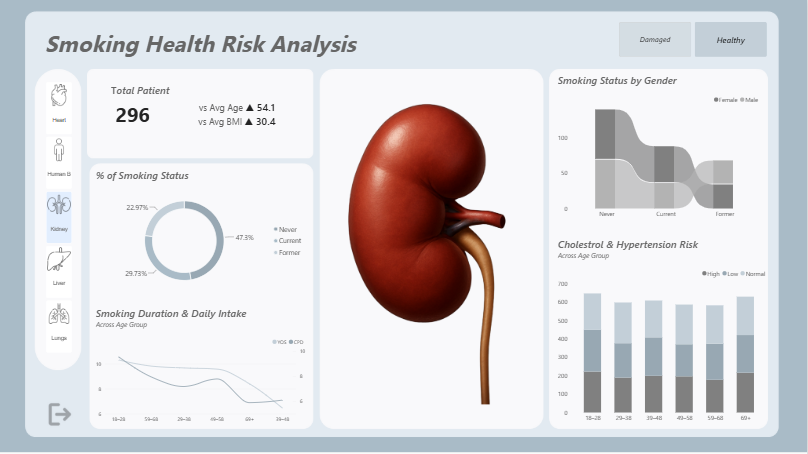

The page's visual inventory and layout, read from the dashboard file:
{"tool":"powerbi","page":{"name":"Smoking Health Risk Analysis","canvas":[1920,1080],"ordinal":0},"visuals":[{"type":"cardVisual","fields":{"Data":["CountNonNull(health_dataset.Patient_ID)"]},"box":[228.6,178.6,497.6,185.7],"z":0},{"type":"textbox","box":[264.3,178.6,283.3,114.3],"z":1000},{"type":"advancedSlicerVisual","fields":{"Values":["condition.Organ_Condition"]},"box":[1473.8,52.4,352.4,83.3],"z":2000},{"type":"ChicletSlicer1448559807354","fields":{"Category":["Organs.Organ"],"Image":["Organs.Icon_URL"]},"box":[90.5,178.6,100,690.5],"z":3000},{"type":"image","box":[764.3,178.6,528.6,831],"z":4000},{"type":"donutChart","title":"% of Smoking Status","fields":{"Category":["health_dataset.Smoking_Status"],"Y":["CountNonNull(health_dataset.Smoking_Status)"]},"box":[211.9,385.7,531,328.6],"z":5000},{"type":"lineChart","title":"Smoking Duration & Daily Intake","fields":{"Category":["health_dataset.Age Group"],"Y":["Avg(health_dataset.Years_of_Smoking)"],"Y2":["Avg(health_dataset.Cigarettes_Per_Day)"]},"box":[211.9,714.3,531,311.9],"z":6000},{"type":"ribbonChart","title":"Smoking Status by Gender","fields":{"Category":["health_dataset.Smoking_Status"],"Series":["health_dataset.Gender"],"Y":["CountNonNull(health_dataset.Patient_ID)"]},"box":[1311.9,159.5,514.3,381],"z":6001},{"type":"columnChart","title":"Cholestrol & Hypertension Risk","fields":{"Category":["health_dataset.Age Group"],"Series":["health_dataset.BP_Risk"],"Y":["Avg(health_dataset.Cholesterol_Level)"]},"box":[1311.9,550,531,476.2],"z":6002},{"type":"textbox","box":[107.1,66.7,819,92.9],"z":6003}]}

Visuals, with their boxes in screenshot pixels (x1, y1, x2, y2), scaled from the page's 1920x1080 canvas onto the 808x454 screenshot:
cardVisual - CountNonNull(health_dataset.Patient_ID): pyautogui.locateOnScreen(96, 75, 306, 153)
textbox: pyautogui.locateOnScreen(111, 75, 230, 123)
advancedSlicerVisual - condition.Organ_Condition: pyautogui.locateOnScreen(620, 22, 769, 57)
ChicletSlicer1448559807354 - Organs.Organ x Organs.Icon_URL: pyautogui.locateOnScreen(38, 75, 80, 365)
image: pyautogui.locateOnScreen(322, 75, 544, 424)
"% of Smoking Status" donutChart: pyautogui.locateOnScreen(89, 162, 313, 300)
"Smoking Duration & Daily Intake" lineChart: pyautogui.locateOnScreen(89, 300, 313, 431)
"Smoking Status by Gender" ribbonChart: pyautogui.locateOnScreen(552, 67, 769, 227)
"Cholestrol & Hypertension Risk" columnChart: pyautogui.locateOnScreen(552, 231, 776, 431)
textbox: pyautogui.locateOnScreen(45, 28, 390, 67)
